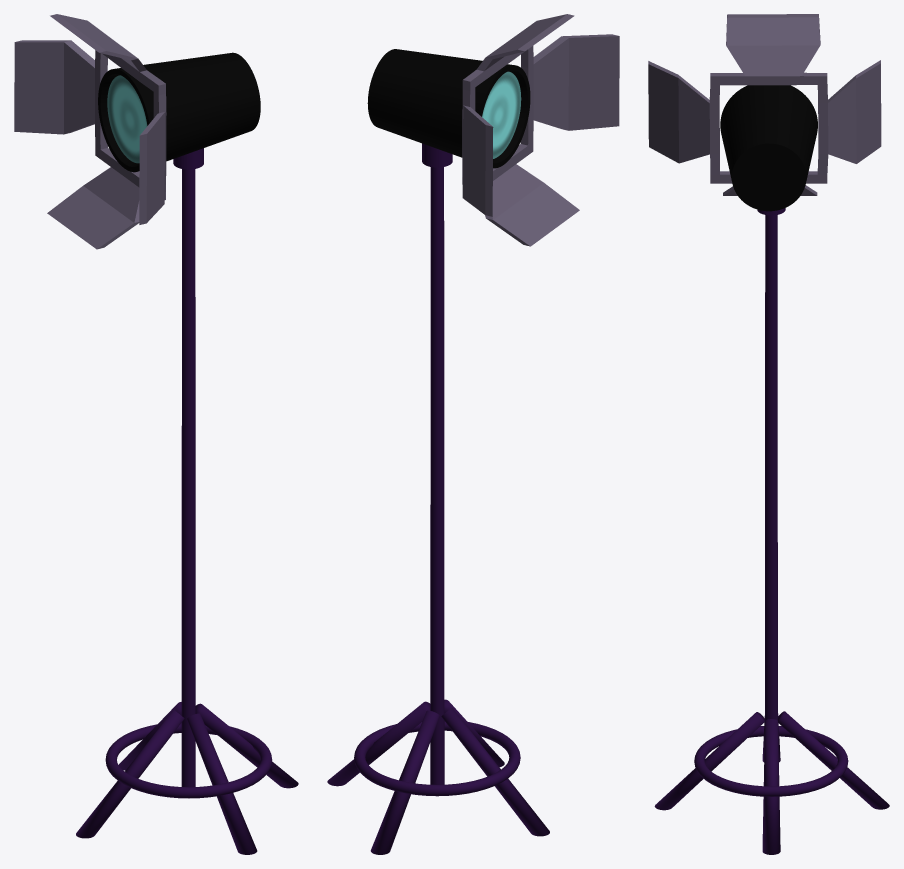
File: STAGE LIGHT.fbx
The picture shows the model from 3 angles, left to right: view 1: azimuth 30°, elevation 25°; view 2: azimuth 150°, elevation 25°; view 3: azimuth 270°, elevation 25°; orthographic projection. The views are drawn at different scales.
Visible parts, largest first — view 1: Cylinder.003, Cylinder.004, Cylinder.006, Cylinder.005; view 2: Cylinder.003, Cylinder.004, Cylinder.006, Cylinder.005; view 3: Cylinder.003, Cylinder.004, Cylinder.006, Cylinder.005.
Boxes of the visible parts, x1,y1,x2,y2 form: Cylinder.003: [14, 14, 166, 249]; Cylinder.004: [98, 52, 260, 172]; Cylinder.006: [76, 702, 298, 854]; Cylinder.005: [173, 148, 203, 786]; Cylinder.003: [462, 14, 619, 246]; Cylinder.004: [367, 49, 530, 168]; Cylinder.006: [327, 699, 549, 854]; Cylinder.005: [422, 143, 452, 784]; Cylinder.003: [648, 14, 881, 195]; Cylinder.004: [720, 85, 817, 211]; Cylinder.006: [654, 711, 889, 854]; Cylinder.005: [757, 208, 785, 720].
Bounding box in the file's own units: 65.72 × 223 × 65.73.
Materials: 4 (4 with a texture image).
